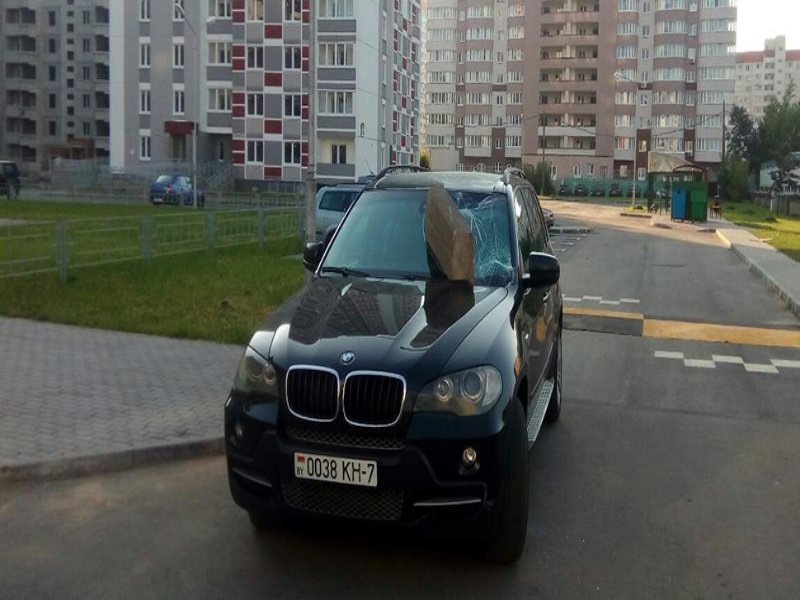car: (227, 165, 565, 565), (302, 182, 367, 248), (148, 174, 204, 206), (1, 161, 19, 199), (608, 183, 621, 197), (627, 183, 640, 196), (592, 185, 605, 196), (575, 184, 587, 195), (559, 184, 569, 195)
plate: (293, 452, 376, 485)
